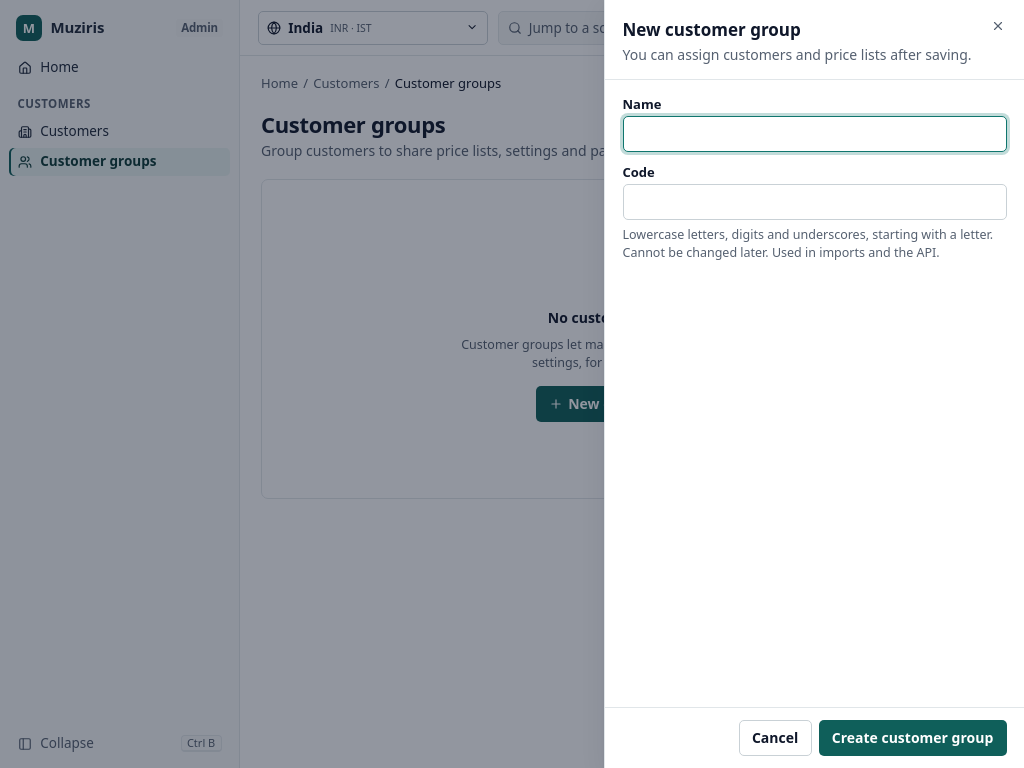
Scenario: customer group form › refuses a code the API would refuse, before sending it
This screenshot has width=1024, height=768.
In the field labelled "Code": point(814, 202) [622,184,1006,220], type "key-accounts"
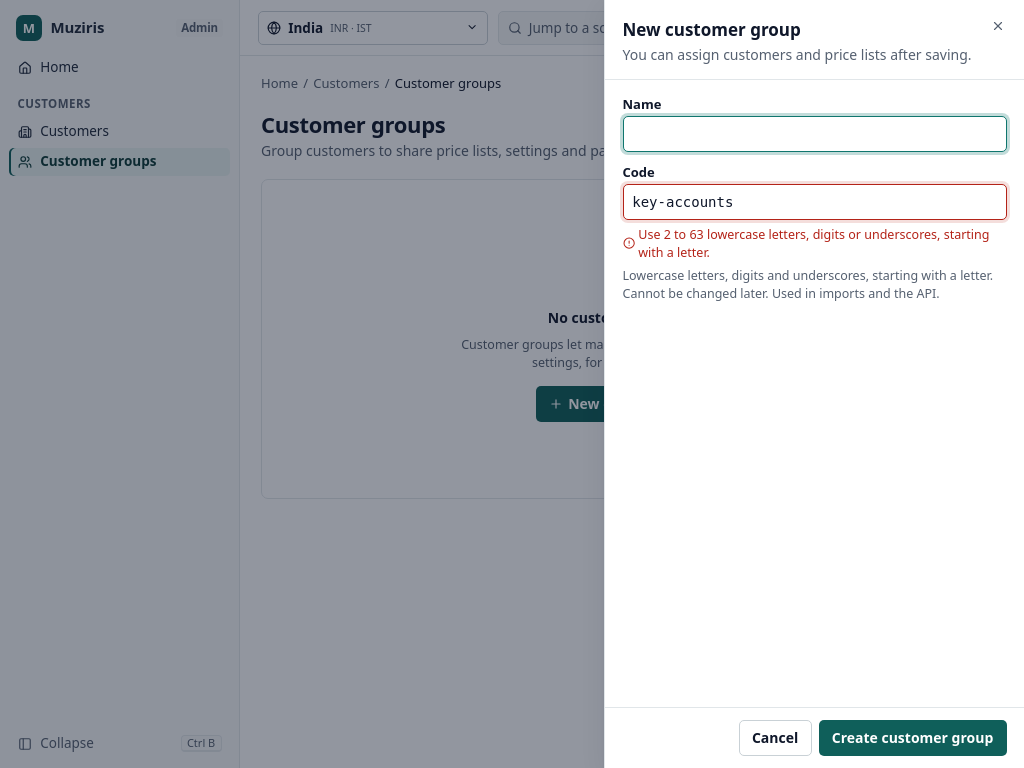
Now the text "Use 2 to 63 lowercase letters" is shown, box [638,226,990,260]
